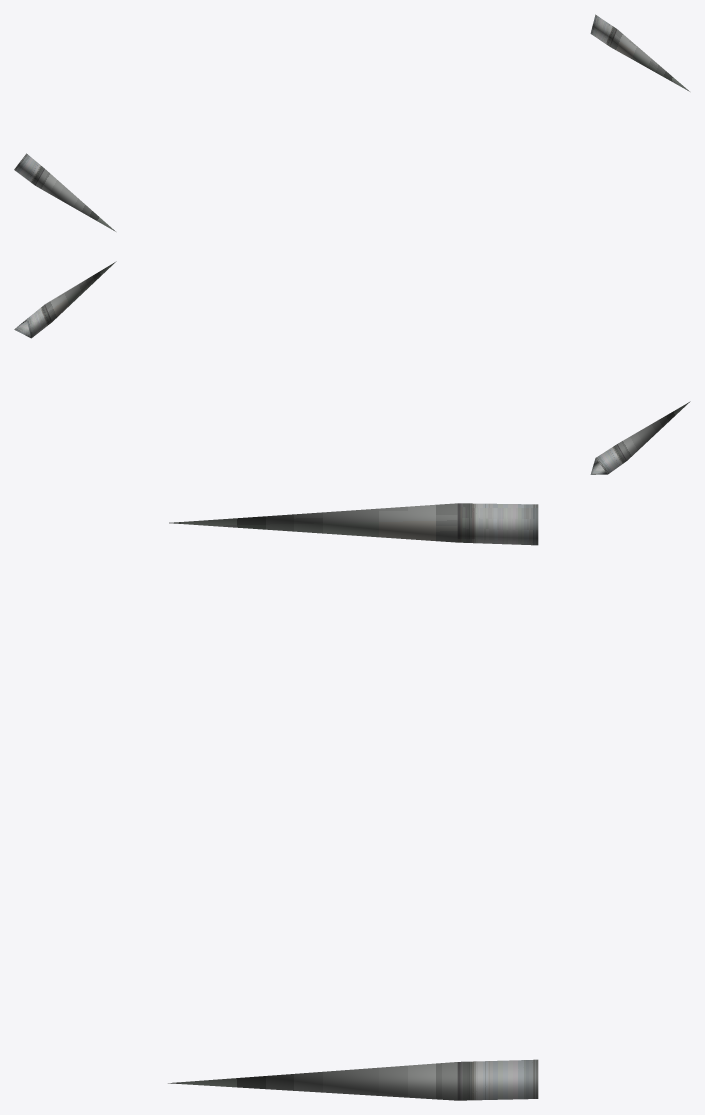
The model's file is hutt_fighter_medium_weapon1_s05_l3.fbx.
3 renders of one model, top to bottom at view 1: azimuth 30°, elevation 25°; view 2: azimuth 150°, elevation 25°; view 3: azimuth 270°, elevation 25°, orthographic. The views are drawn at different scales.
Visible parts, largest first — view 1: mesh_node; view 2: mesh_node; view 3: mesh_node.
Boxes of the visible parts, box(x1,y1,x2,y2) form: mesh_node: box(14, 14, 689, 231); mesh_node: box(14, 261, 690, 474); mesh_node: box(168, 503, 538, 1100).
Bounding box in the file's own units: 3.16 × 0.092 × 0.8563.
1 material, 1 textured.
